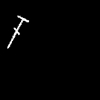double_crochet: (8, 16, 28, 47)
